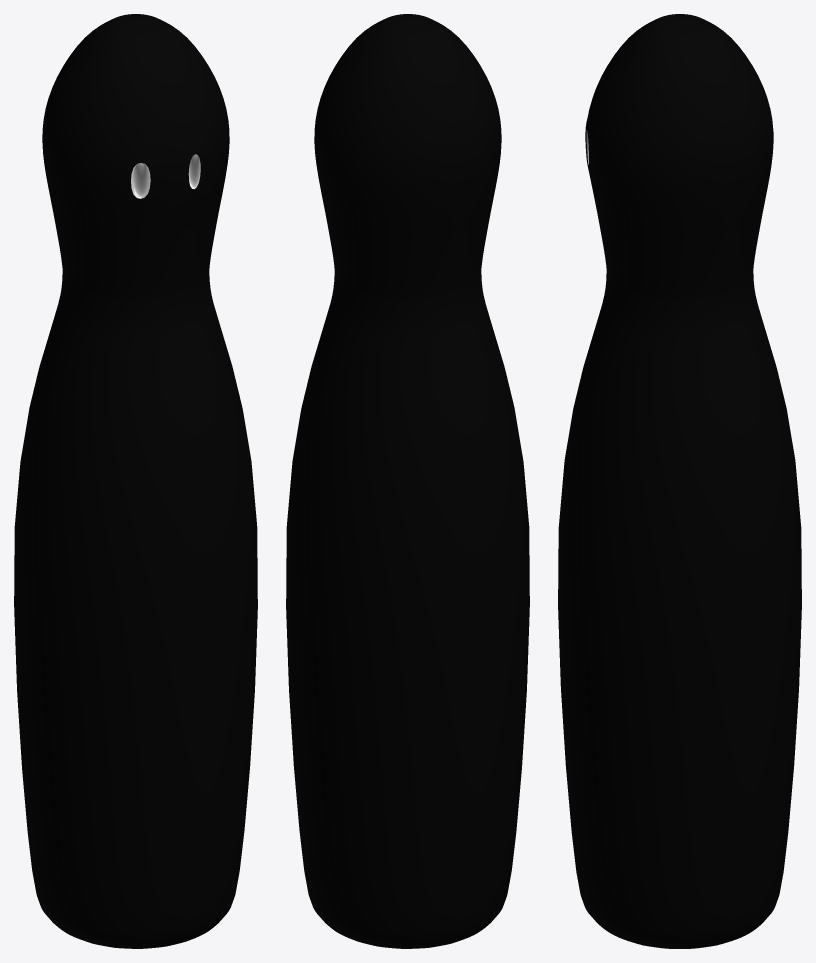
The model's file is ghost3.fbx.
3 views of the same model, side by side, from view 1: azimuth 30°, elevation 25°; view 2: azimuth 150°, elevation 25°; view 3: azimuth 270°, elevation 25° (orthographic).
Parts seen in each view (by area): view 1: polySurface1; view 2: polySurface1; view 3: polySurface1.
Part boxes in pixels (box(x1,y1,x2,y2)): polySurface1: box(14, 14, 257, 948); polySurface1: box(286, 14, 529, 948); polySurface1: box(558, 14, 801, 948).
Bounding box in the file's own units: 1.56 × 6.3 × 1.56.
